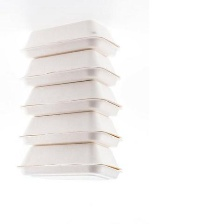foam_box: (11, 140, 127, 185), (15, 76, 126, 121), (12, 108, 123, 151), (19, 45, 122, 90), (19, 17, 124, 61)
